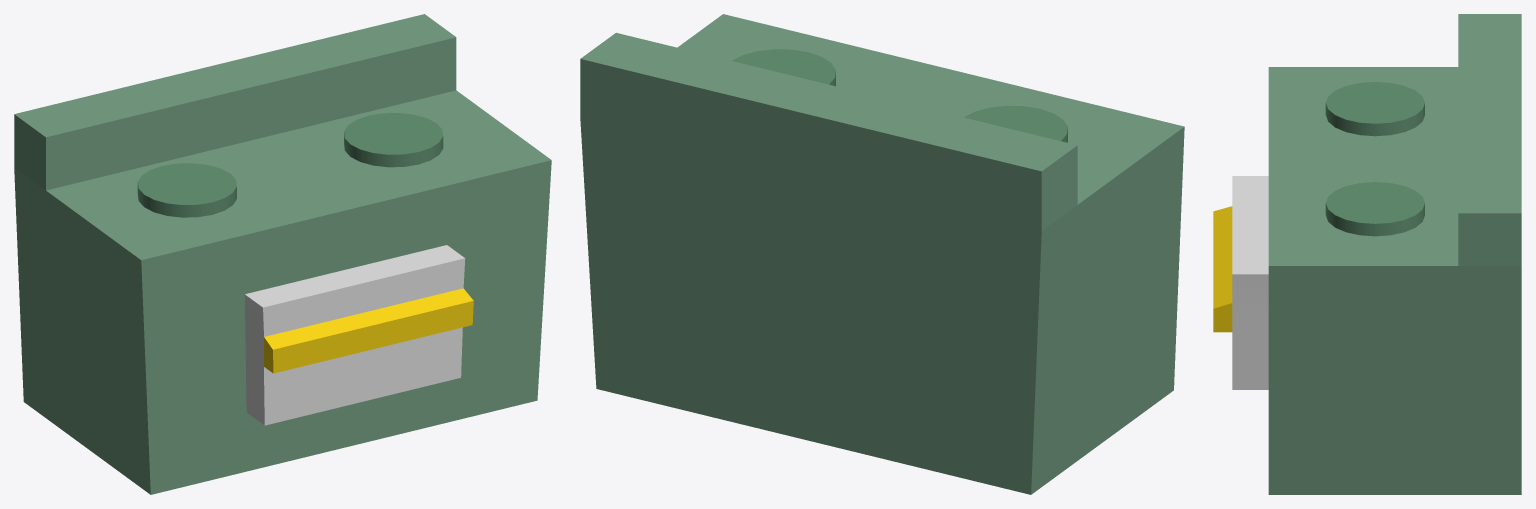
File: Stove.fbx
3 renders of one model, left to right at view 1: azimuth 30°, elevation 25°; view 2: azimuth 150°, elevation 25°; view 3: azimuth 270°, elevation 25°, orthographic. The views are drawn at different scales.
Parts seen in each view (by area): view 1: pCube1, pCylinder1, pCylinder2; view 2: pCube1, pCylinder2, pCylinder1; view 3: pCube1, pCylinder1, pCylinder2.
Part boxes in pixels (x1,y1,x2,y2): pCube1: (14, 14, 551, 494); pCylinder1: (137, 163, 236, 217); pCylinder2: (344, 113, 443, 167); pCube1: (580, 14, 1184, 494); pCylinder2: (732, 49, 835, 86); pCylinder1: (964, 105, 1067, 142); pCube1: (1213, 14, 1521, 494); pCylinder1: (1325, 82, 1424, 136); pCylinder2: (1325, 182, 1424, 236).
Bounding box in the file's own units: 80.52 × 54.38 × 52.6.
